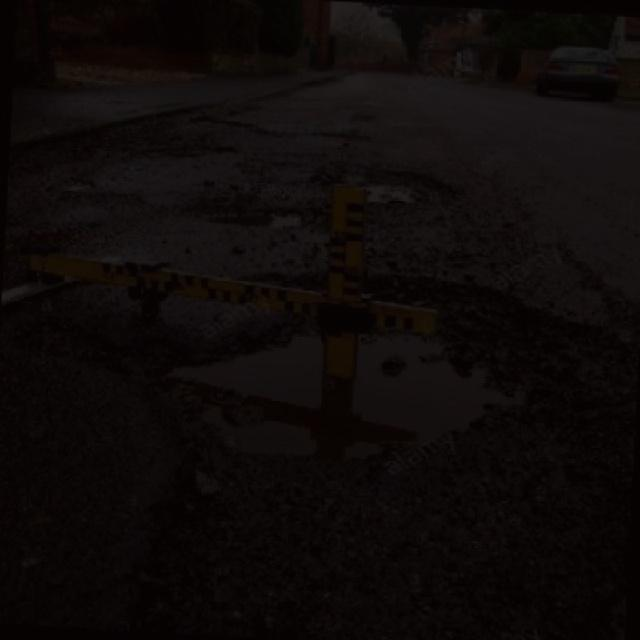Pothole: (39, 268, 639, 464), (73, 145, 254, 201), (326, 161, 464, 213), (214, 200, 318, 229), (277, 128, 374, 152)
